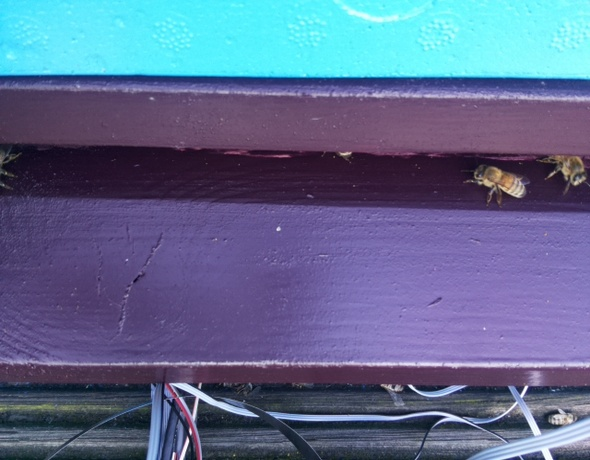no_pollen: (468, 161, 531, 207), (544, 149, 588, 191)
